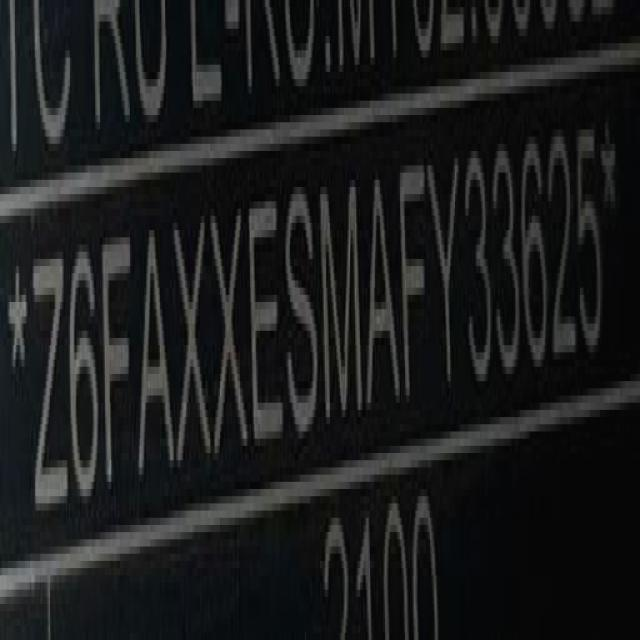2: (552, 125, 576, 375)
3: (492, 136, 519, 384), (464, 146, 488, 400)
5: (577, 121, 602, 366)
6: (69, 239, 99, 515), (522, 132, 547, 378)
A: (139, 218, 174, 494), (368, 157, 400, 421)
E: (252, 188, 284, 465)
F: (103, 224, 133, 506), (398, 155, 430, 418)
M: (317, 176, 365, 429)
S: (287, 178, 319, 446)
X: (211, 195, 249, 475), (175, 205, 209, 482)
Y: (429, 149, 464, 405)
Z: (35, 250, 67, 524)
